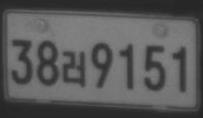1: (117, 42, 141, 90), (169, 45, 192, 93)
3: (10, 38, 33, 85)
5: (143, 45, 166, 92)
8: (36, 40, 59, 86)
9: (90, 42, 113, 88)
러: (62, 49, 85, 87)
